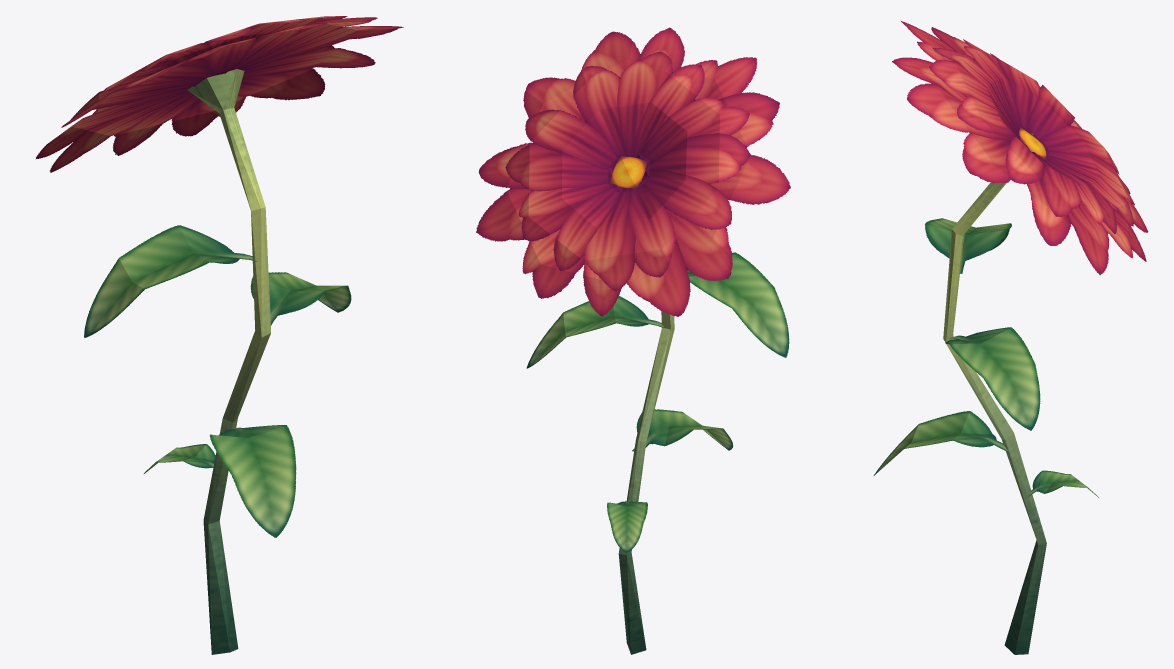
File: VEG0310027.fbx
The picture shows the model from 3 angles, left to right: view 1: azimuth 30°, elevation 25°; view 2: azimuth 150°, elevation 25°; view 3: azimuth 270°, elevation 25°; orthographic projection. The views are drawn at different scales.
Parts seen in each view (by area): view 1: smVEG0310027; view 2: smVEG0310027; view 3: smVEG0310027.
Part boxes in pixels (<box>): smVEG0310027: <box>36,16,403,654</box>; smVEG0310027: <box>476,27,790,654</box>; smVEG0310027: <box>873,21,1148,654</box>.
Bounding box in the file's own units: 20.32 × 37.1 × 17.01.
Materials: 1 (1 with a texture image).
